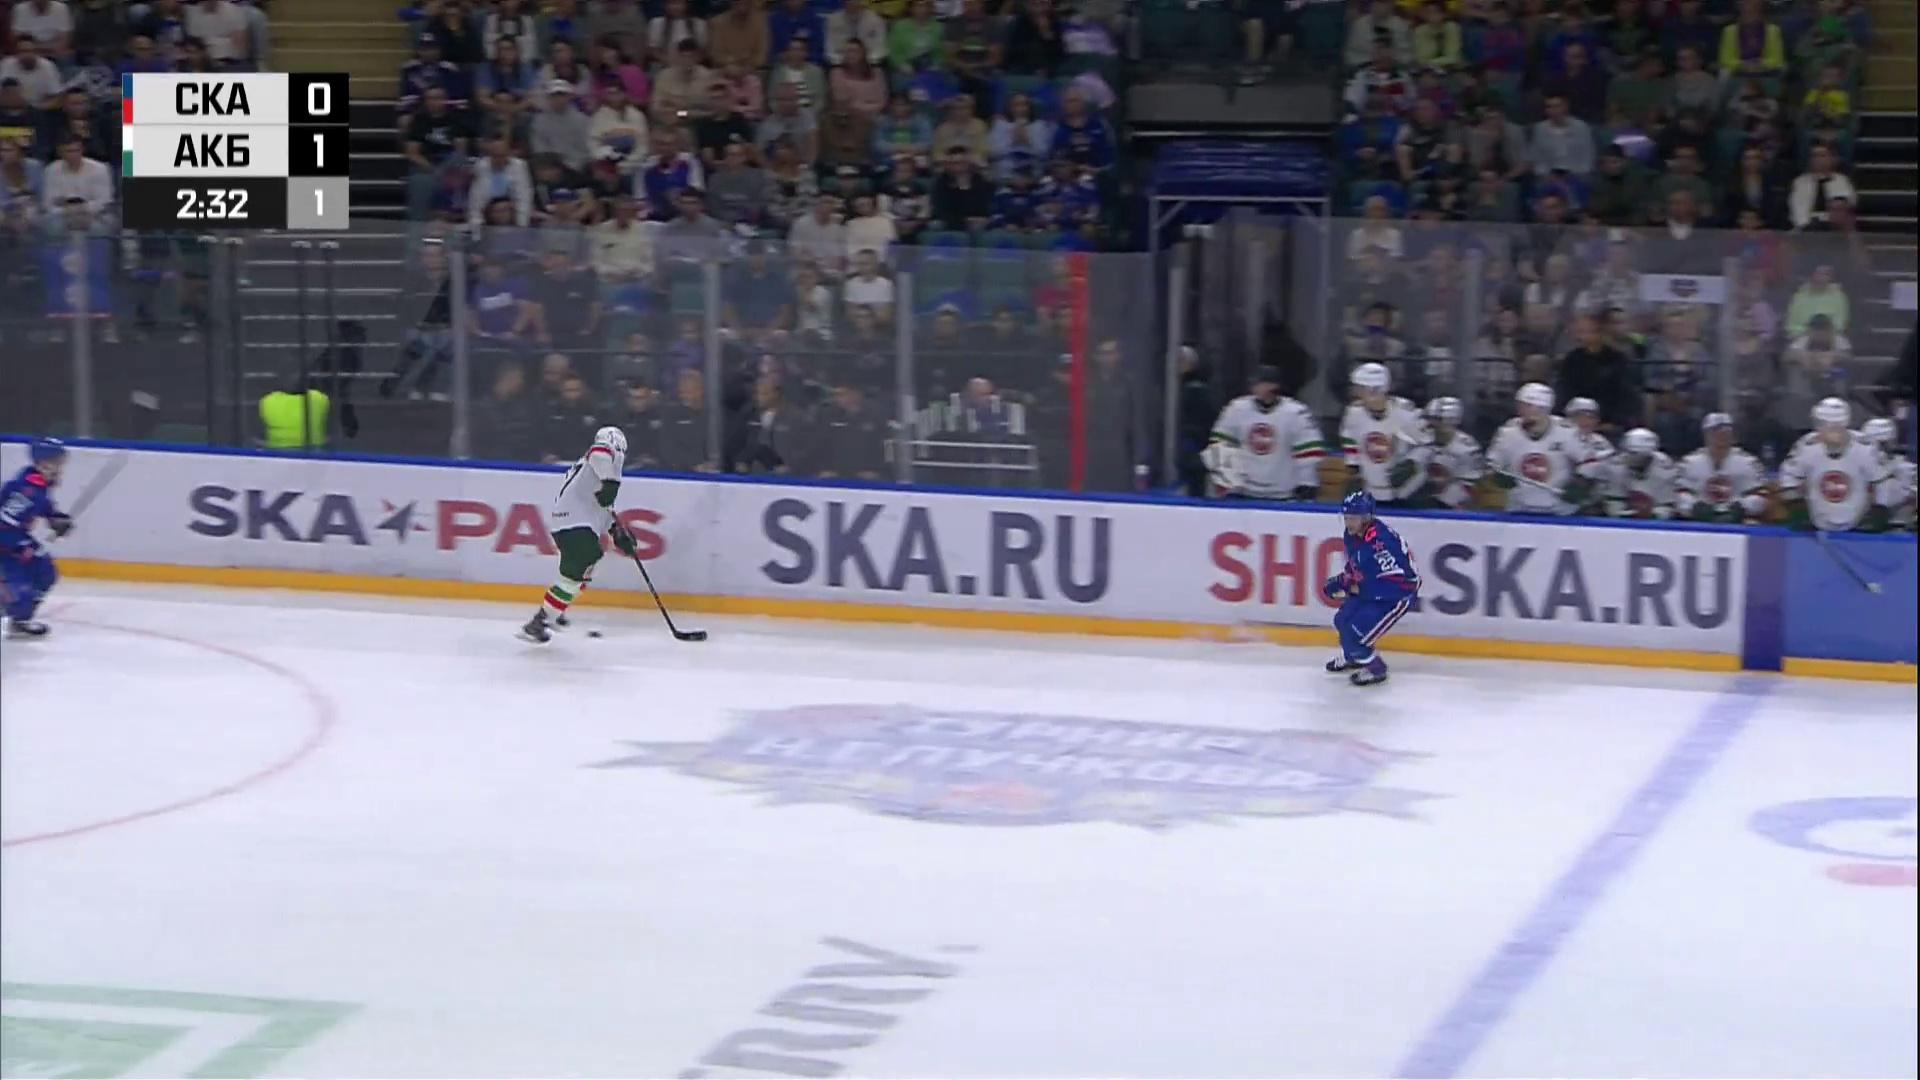ball: (587, 630, 602, 639)
